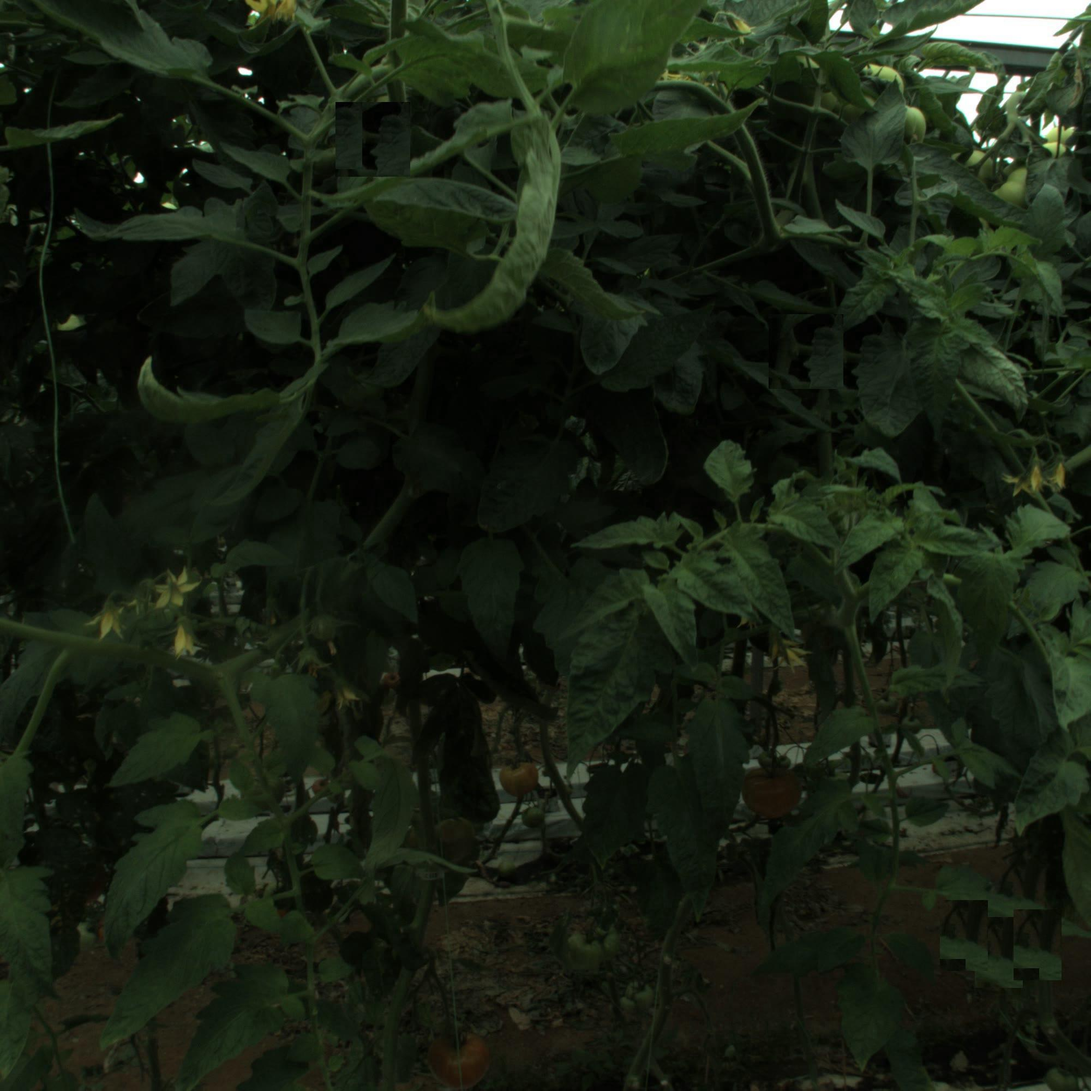fully-ripe: (433, 1031, 489, 1088)
semi-ripe: (746, 763, 803, 820)
unripe: (498, 758, 537, 797)
